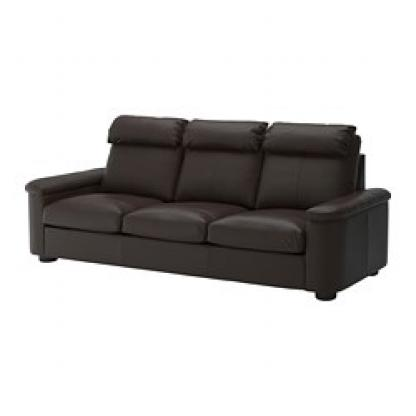Sofa: (19, 80, 394, 309)
